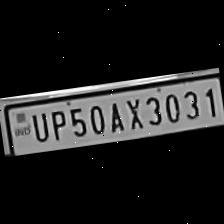0: (158, 88, 181, 124), (85, 99, 108, 134)
1: (198, 84, 220, 118)
3: (140, 90, 164, 127), (178, 86, 201, 120)
5: (64, 102, 90, 138)
A: (103, 96, 127, 132)
P: (45, 105, 69, 141)
U: (27, 107, 51, 144)
X: (122, 94, 146, 132)
